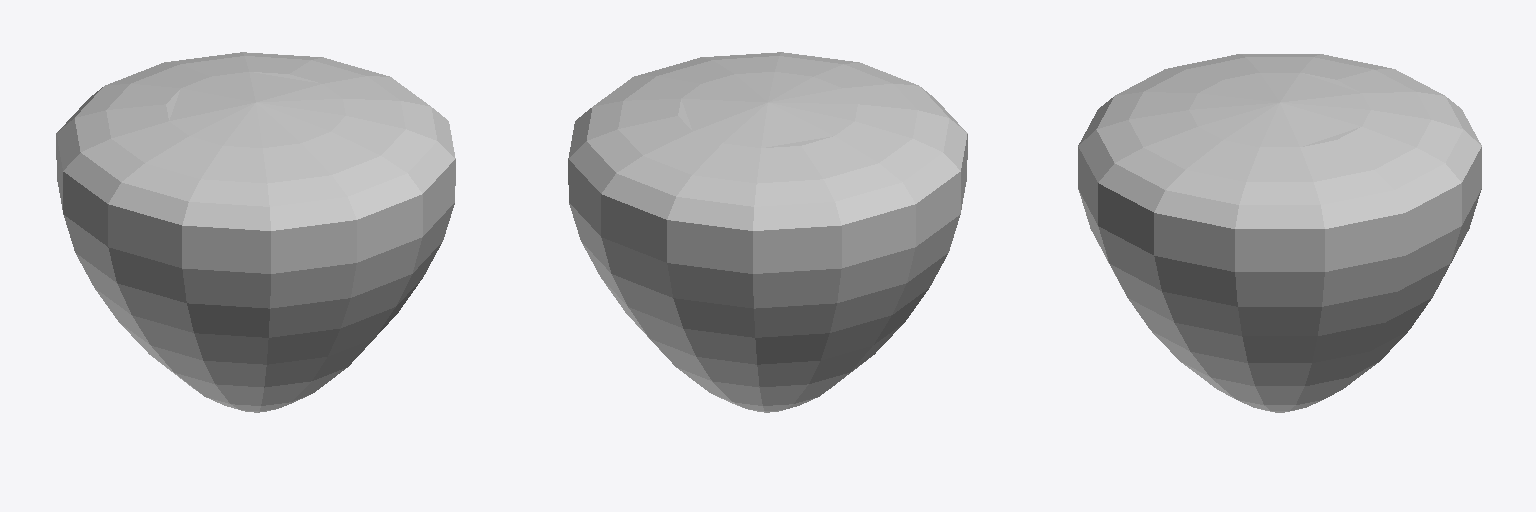
File: jumppad.obj
The picture shows the model from 3 angles: view 1: azimuth 30°, elevation 25°; view 2: azimuth 150°, elevation 25°; view 3: azimuth 270°, elevation 25°; orthographic projection.
Visible parts, largest first — view 1: Cylinder.006_Cylinder.003; view 2: Cylinder.006_Cylinder.003; view 3: Cylinder.006_Cylinder.003.
Part boxes in pixels (x1,y1,x2,y2): Cylinder.006_Cylinder.003: (56, 52, 455, 412); Cylinder.006_Cylinder.003: (568, 52, 967, 412); Cylinder.006_Cylinder.003: (1078, 54, 1481, 412).
Bounding box in the file's own units: 2.24 × 1.93 × 2.3.